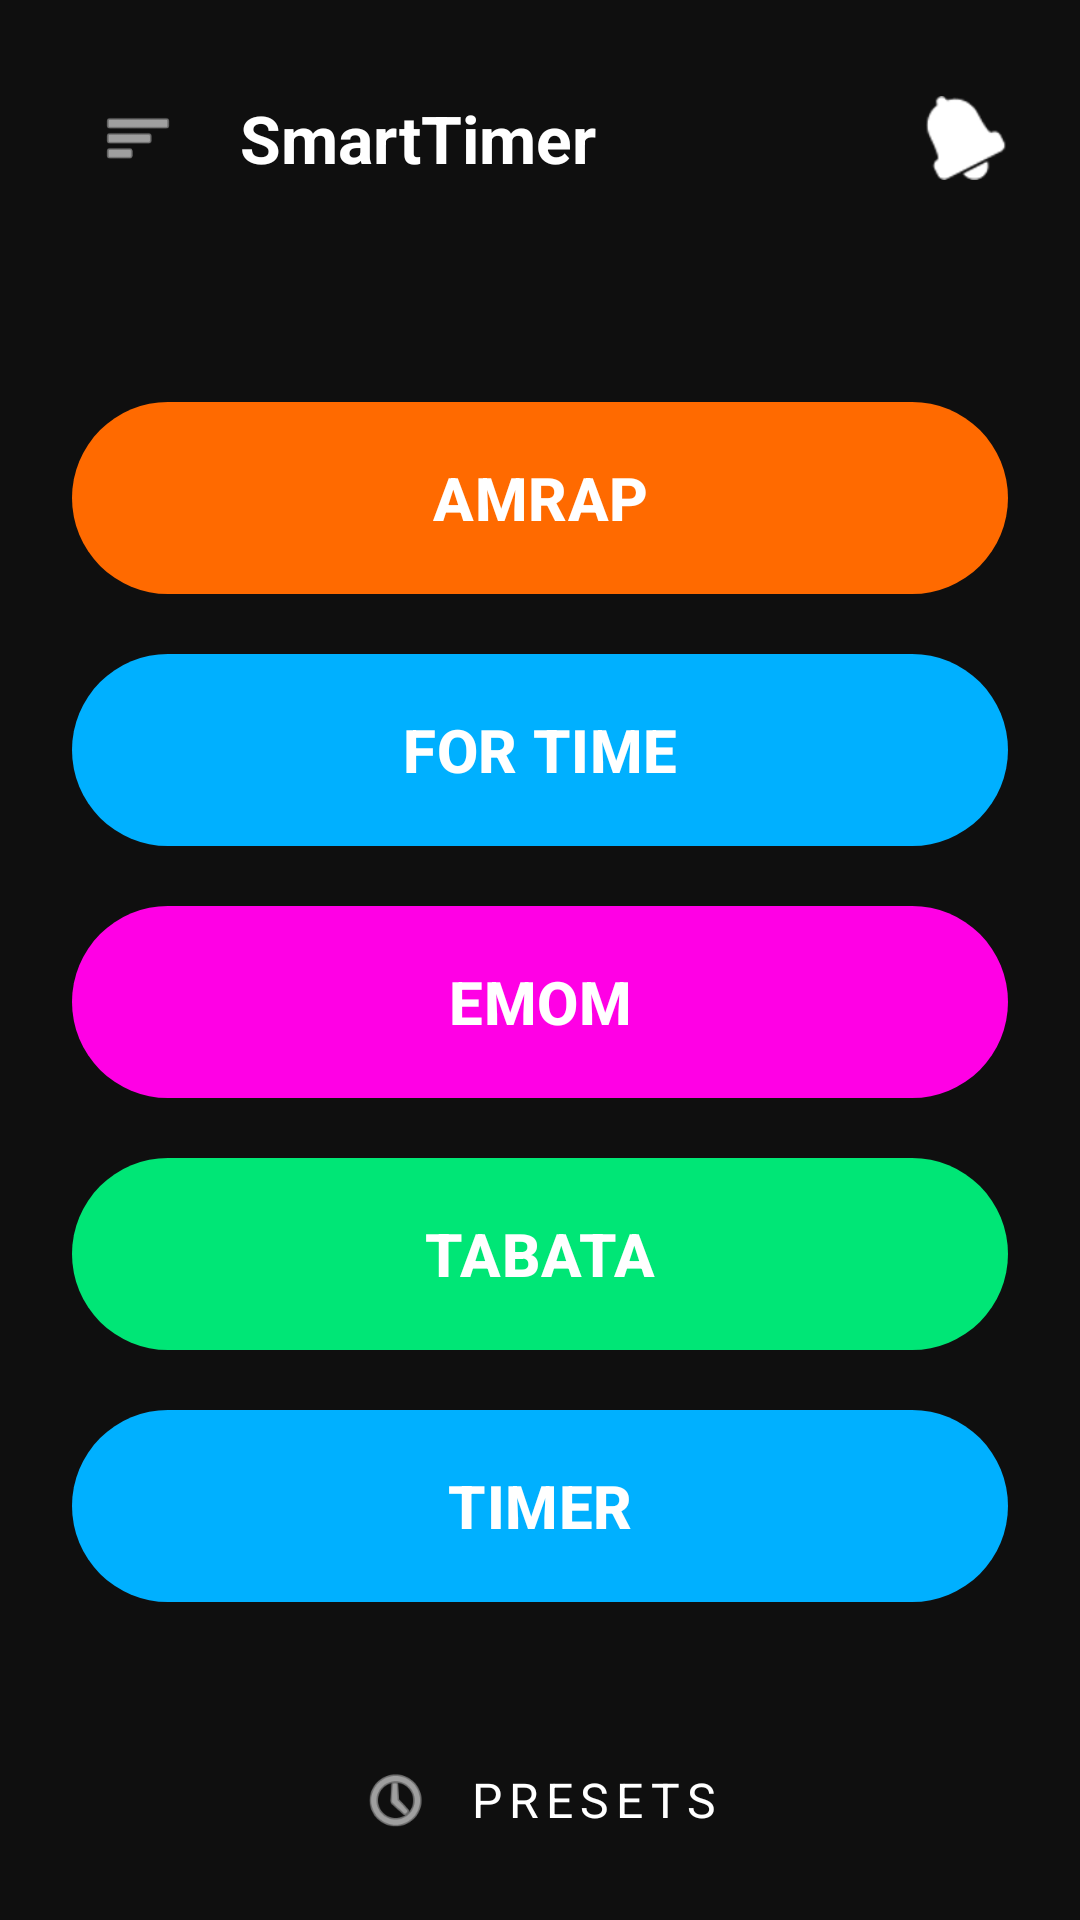

Screen size 1080 × 1920. Icon name, then its center in pixels as [x,y]:
Menu: [138,138]
Notifications: [966,138]
